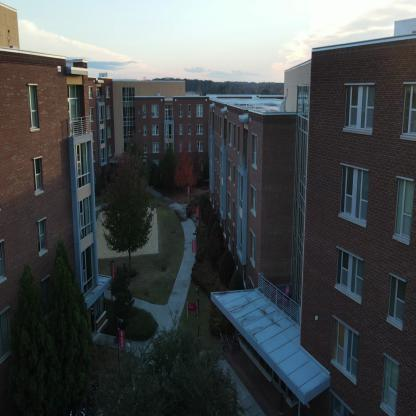Wolf Ridge: (0, 9, 415, 401)
